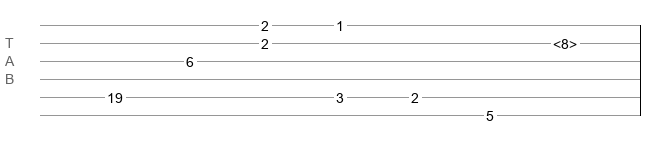1: (336, 18, 344, 28)
19: (107, 90, 123, 100)
2: (261, 36, 269, 46), (261, 18, 269, 28), (411, 90, 419, 100)
3: (336, 90, 344, 100)
5: (486, 108, 494, 118)
6: (186, 54, 194, 64)
harmonic: (553, 36, 577, 46)
